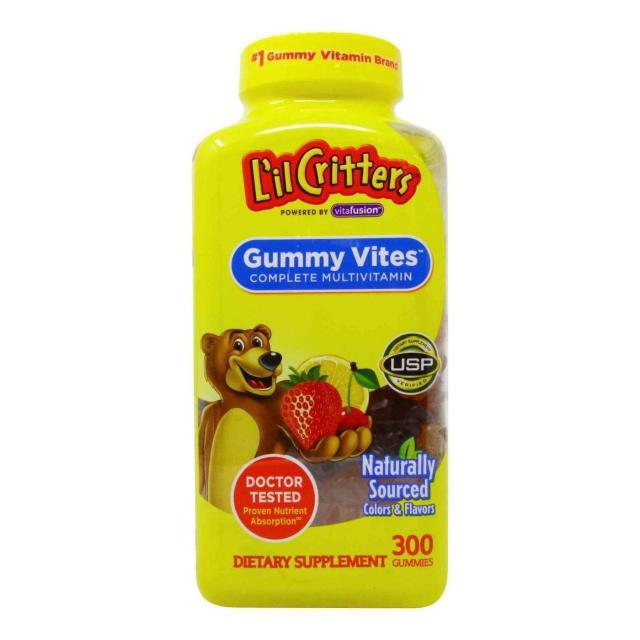food-supliment: (198, 144, 450, 598), (243, 42, 410, 115)
